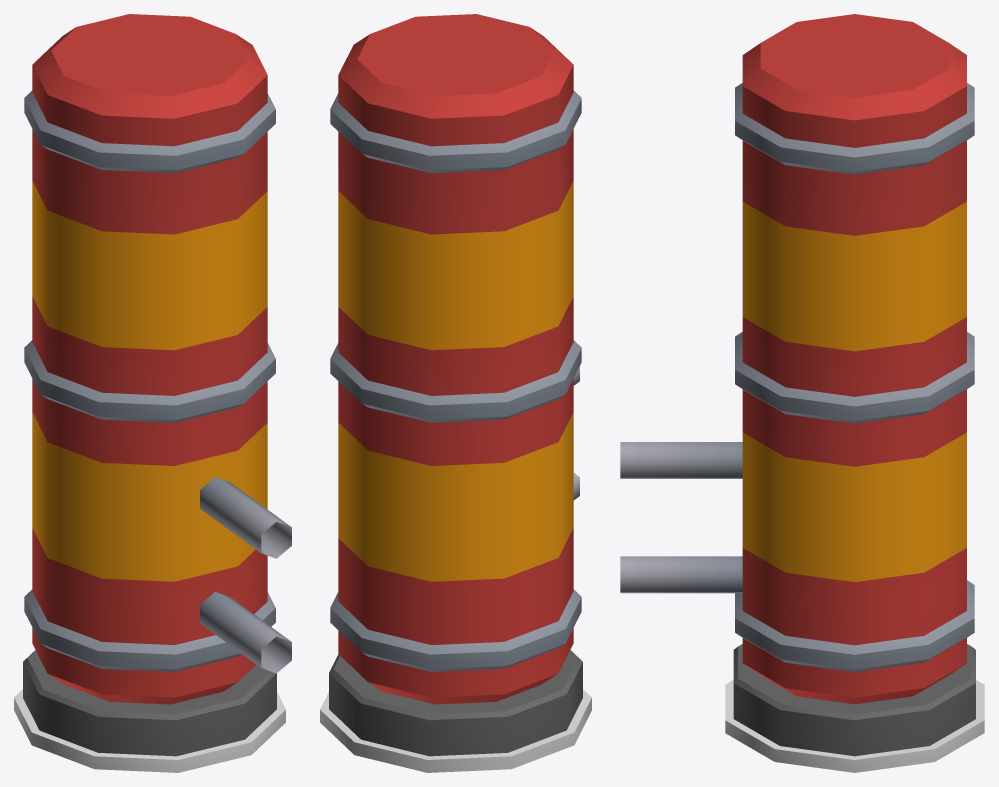
File: GasTank_1_C.fbx
3 views of the same model, side by side, from view 1: azimuth 30°, elevation 25°; view 2: azimuth 150°, elevation 25°; view 3: azimuth 270°, elevation 25° (orthographic).
Visible parts, largest first — view 1: GasTank_1_C; view 2: GasTank_1_C; view 3: GasTank_1_C.
Part boxes in pixels (x1,y1,x2,y2): GasTank_1_C: (14,14,291,772); GasTank_1_C: (320,14,591,772); GasTank_1_C: (620,14,984,772).
Bounding box in the file's own units: 284 × 758 × 379.
